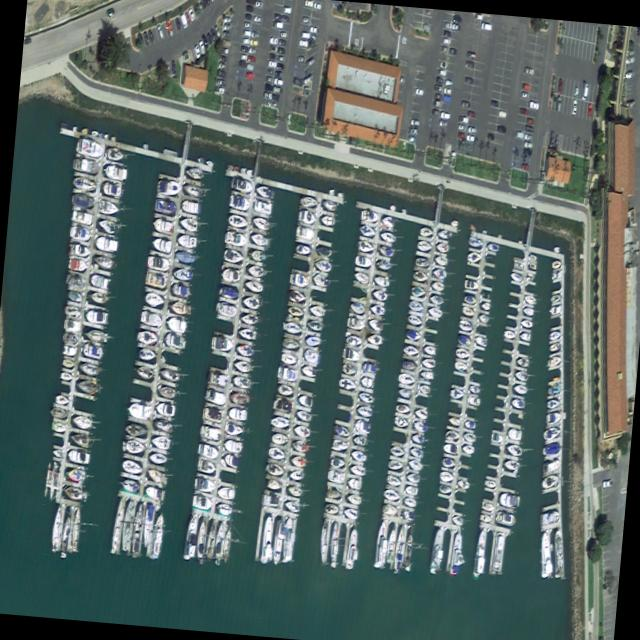ship: (372, 518, 390, 571), (109, 497, 124, 555), (428, 527, 445, 577), (42, 460, 62, 502), (130, 503, 144, 559), (472, 529, 488, 578), (119, 500, 134, 552), (182, 515, 197, 563), (149, 513, 164, 561), (259, 515, 272, 565), (392, 525, 405, 575), (75, 137, 103, 160), (281, 517, 294, 566), (344, 527, 358, 572), (450, 529, 463, 577), (490, 532, 505, 573), (271, 520, 284, 567), (402, 526, 415, 572), (50, 505, 62, 552), (72, 156, 100, 176), (70, 508, 82, 552), (60, 508, 72, 552), (317, 519, 328, 564), (328, 521, 340, 562), (195, 518, 207, 559), (141, 506, 153, 547), (72, 175, 97, 194), (213, 521, 224, 562), (205, 520, 216, 560), (205, 388, 227, 408), (197, 441, 219, 461), (230, 176, 253, 195), (71, 192, 94, 211), (95, 235, 118, 254), (97, 199, 119, 218), (147, 255, 170, 273), (104, 164, 127, 182), (199, 424, 222, 442), (139, 310, 162, 328), (156, 179, 180, 196), (221, 528, 232, 565), (553, 529, 561, 579), (541, 531, 549, 581), (228, 193, 249, 212), (145, 272, 167, 290), (224, 230, 246, 248), (193, 476, 215, 494), (121, 458, 143, 476), (128, 403, 150, 421), (71, 209, 93, 227), (69, 225, 91, 243), (385, 528, 396, 564), (154, 199, 177, 216), (146, 468, 169, 485), (125, 422, 148, 439), (539, 508, 559, 527), (216, 301, 237, 319), (202, 406, 223, 424), (69, 430, 90, 448), (85, 309, 108, 325), (144, 290, 164, 308), (104, 145, 124, 163), (221, 266, 241, 284), (164, 332, 185, 349), (124, 440, 145, 457), (137, 329, 158, 346), (82, 342, 103, 359), (78, 360, 99, 377), (75, 378, 96, 395), (152, 218, 174, 234), (211, 336, 233, 352), (228, 212, 248, 229), (192, 494, 212, 511), (93, 254, 113, 271), (169, 300, 190, 316), (223, 248, 244, 264), (68, 449, 89, 465), (498, 492, 519, 508), (495, 511, 516, 527), (273, 397, 292, 414), (255, 183, 274, 200), (197, 459, 216, 476), (208, 371, 228, 387), (119, 478, 139, 494), (72, 413, 92, 429), (260, 492, 280, 508), (174, 250, 195, 265), (69, 243, 90, 258), (65, 273, 86, 288), (158, 368, 180, 382), (97, 218, 115, 235), (295, 226, 314, 242), (289, 272, 308, 288), (217, 485, 236, 501), (102, 181, 121, 197), (219, 284, 238, 300), (151, 435, 170, 451), (138, 347, 157, 363), (91, 273, 110, 289), (63, 303, 82, 319), (541, 441, 560, 457), (277, 367, 297, 382), (152, 238, 172, 253), (182, 183, 202, 198), (223, 422, 243, 437), (237, 327, 257, 342), (166, 317, 186, 332), (67, 258, 87, 273), (85, 328, 105, 343), (145, 484, 162, 501), (252, 215, 270, 231), (64, 486, 82, 502), (542, 472, 558, 490), (542, 458, 560, 474), (543, 425, 561, 441), (228, 406, 247, 421), (270, 416, 290, 430), (172, 267, 192, 281), (177, 234, 197, 248), (229, 391, 249, 405), (65, 467, 85, 481), (171, 283, 188, 299), (289, 289, 306, 305), (357, 239, 374, 255), (353, 418, 370, 434), (270, 431, 288, 446), (303, 349, 321, 364), (267, 447, 285, 462), (266, 462, 284, 477), (185, 166, 203, 181), (297, 209, 315, 224), (314, 258, 332, 273), (361, 209, 379, 224), (327, 470, 345, 485), (338, 377, 356, 392), (63, 318, 81, 333), (179, 217, 198, 231), (346, 317, 365, 331), (223, 439, 242, 453), (232, 375, 251, 389), (244, 279, 263, 293), (148, 451, 167, 465), (156, 402, 175, 416), (277, 382, 294, 397), (285, 321, 302, 336), (379, 229, 396, 244), (215, 502, 232, 517), (242, 295, 259, 310), (158, 384, 175, 399), (503, 458, 520, 473), (181, 199, 199, 213), (354, 255, 372, 269), (233, 359, 251, 373), (250, 231, 268, 245), (281, 338, 300, 351), (397, 373, 416, 386), (294, 242, 310, 257), (378, 243, 394, 258), (346, 333, 362, 348), (381, 502, 397, 517), (308, 304, 325, 318), (358, 225, 375, 239), (402, 343, 419, 357), (350, 449, 367, 463), (240, 312, 257, 326), (154, 418, 171, 432), (246, 264, 264, 277), (90, 291, 108, 304), (49, 407, 67, 420), (298, 393, 313, 408), (354, 270, 369, 285), (346, 491, 361, 506), (281, 352, 297, 366), (266, 478, 282, 492), (312, 273, 328, 287), (375, 258, 391, 272), (408, 299, 424, 313), (329, 455, 345, 469), (332, 439, 348, 453), (343, 348, 359, 362), (367, 317, 383, 331), (349, 301, 365, 315), (224, 452, 238, 468), (62, 332, 78, 346), (385, 473, 401, 487), (293, 425, 310, 438), (292, 439, 309, 452), (290, 455, 307, 468), (287, 305, 304, 318), (300, 195, 317, 208), (400, 359, 417, 372), (236, 344, 253, 357), (136, 366, 153, 379), (343, 507, 358, 521), (324, 502, 339, 516), (413, 270, 428, 284), (326, 486, 341, 500), (467, 250, 482, 264), (546, 411, 561, 425), (320, 214, 336, 227), (316, 245, 332, 258), (410, 286, 426, 299), (406, 314, 422, 327), (405, 329, 421, 342), (333, 424, 349, 437), (358, 391, 374, 404), (362, 361, 378, 374), (366, 333, 382, 346), (369, 303, 385, 316), (67, 290, 83, 303), (455, 347, 471, 360), (389, 445, 405, 458), (387, 459, 403, 472), (506, 444, 522, 457), (295, 410, 312, 422), (284, 500, 301, 512), (428, 294, 445, 306), (383, 489, 400, 501), (342, 363, 356, 377), (51, 446, 65, 460), (547, 354, 561, 368), (287, 484, 302, 497), (432, 267, 447, 280), (417, 240, 432, 253), (347, 477, 362, 490), (372, 289, 387, 302), (52, 421, 67, 434), (445, 429, 460, 442), (394, 416, 409, 429), (412, 420, 427, 433), (407, 458, 422, 471), (439, 470, 454, 483), (507, 428, 522, 441), (356, 405, 372, 417), (374, 275, 390, 287), (250, 249, 266, 261), (322, 199, 336, 212), (435, 241, 449, 254), (547, 384, 561, 397), (301, 365, 316, 377), (307, 319, 322, 331), (430, 280, 445, 292), (415, 256, 430, 268), (360, 376, 375, 388), (54, 394, 69, 406), (449, 388, 464, 400), (453, 361, 468, 373), (464, 279, 479, 291), (443, 442, 458, 454), (395, 402, 410, 414), (381, 214, 394, 227), (442, 456, 455, 469), (419, 226, 433, 238), (398, 387, 412, 399), (473, 335, 487, 347), (458, 320, 472, 332), (410, 432, 424, 444), (401, 509, 415, 521), (479, 513, 493, 525), (305, 335, 320, 346), (288, 470, 303, 481), (427, 306, 442, 317), (421, 357, 436, 368), (468, 237, 483, 248), (409, 447, 424, 458), (352, 435, 368, 445), (434, 254, 447, 266), (63, 345, 76, 357), (414, 407, 427, 419), (523, 293, 536, 305), (547, 397, 559, 410), (549, 341, 561, 354), (423, 344, 437, 355), (420, 370, 434, 381), (461, 307, 475, 318), (463, 294, 477, 305), (406, 472, 420, 483), (403, 497, 417, 508), (514, 370, 528, 381), (513, 383, 527, 394), (511, 398, 525, 409), (520, 318, 532, 330), (451, 514, 463, 526), (437, 229, 450, 240), (61, 358, 74, 369), (457, 335, 470, 346), (486, 242, 499, 253), (516, 356, 529, 367), (456, 479, 469, 490), (438, 484, 451, 495), (490, 433, 503, 444), (481, 501, 494, 512), (549, 329, 560, 342), (350, 465, 364, 475), (59, 372, 73, 382), (462, 432, 476, 442), (418, 383, 430, 394), (448, 416, 460, 427), (468, 395, 480, 406), (478, 312, 489, 324), (513, 259, 524, 271), (510, 271, 522, 282), (522, 306, 534, 317), (550, 292, 561, 304), (461, 444, 474, 454), (503, 330, 516, 340), (483, 479, 496, 489), (405, 485, 419, 494), (468, 384, 480, 394), (551, 258, 561, 270), (464, 420, 475, 430), (519, 332, 531, 341), (205, 158, 214, 168), (408, 126, 418, 135), (433, 91, 442, 101), (442, 93, 451, 103), (480, 301, 490, 310), (435, 75, 444, 84), (464, 76, 473, 85), (409, 119, 419, 127), (397, 76, 405, 85), (415, 87, 423, 96), (407, 135, 416, 143), (450, 218, 458, 227), (433, 100, 441, 108), (529, 254, 538, 261), (81, 127, 88, 135), (91, 130, 98, 138), (529, 262, 536, 270), (328, 188, 335, 195), (246, 168, 252, 176), (227, 164, 233, 171), (97, 132, 103, 139), (240, 167, 246, 173), (336, 192, 343, 197), (554, 246, 559, 253), (234, 166, 239, 172)
small-vehicle: (580, 82, 589, 101), (165, 19, 173, 36), (179, 12, 187, 29), (439, 108, 450, 120), (480, 21, 492, 32), (625, 97, 635, 110), (193, 44, 201, 60), (528, 100, 539, 111), (439, 43, 449, 55), (303, 72, 313, 84), (467, 49, 477, 61), (147, 28, 155, 43), (156, 24, 164, 39), (209, 26, 216, 43), (142, 30, 149, 47), (188, 6, 195, 22), (198, 39, 205, 55), (214, 22, 221, 38), (305, 56, 315, 67), (436, 66, 446, 77), (272, 76, 283, 86), (265, 66, 275, 77), (602, 479, 613, 489), (220, 38, 231, 48), (242, 27, 251, 39), (262, 89, 271, 101), (495, 124, 507, 133), (557, 77, 563, 94), (202, 33, 208, 50), (444, 77, 454, 87), (461, 99, 471, 109), (523, 67, 534, 76), (523, 138, 532, 149), (486, 131, 495, 142), (218, 60, 227, 71), (571, 99, 577, 115), (206, 32, 212, 48), (300, 30, 310, 39), (467, 109, 476, 119), (458, 114, 468, 123), (466, 134, 475, 144), (281, 14, 290, 24), (452, 14, 461, 24), (555, 96, 561, 111), (625, 69, 634, 79), (175, 16, 181, 31), (253, 14, 262, 24), (297, 39, 308, 47), (272, 84, 280, 95), (244, 11, 252, 22), (216, 75, 224, 86), (185, 10, 190, 27), (433, 84, 442, 93), (443, 87, 452, 96), (439, 119, 448, 128), (442, 29, 451, 38), (466, 59, 475, 68), (497, 109, 506, 118), (240, 44, 249, 53), (241, 36, 250, 45), (245, 3, 254, 12), (267, 52, 276, 61), (515, 129, 524, 138), (293, 77, 302, 86), (218, 54, 227, 63), (249, 39, 258, 48), (302, 15, 310, 25), (309, 25, 319, 33), (304, 0, 314, 8), (243, 19, 251, 29), (283, 5, 291, 15), (278, 38, 286, 48), (269, 43, 277, 53), (276, 54, 284, 64), (247, 53, 255, 63), (217, 68, 225, 78), (280, 29, 287, 40), (587, 103, 592, 118), (458, 123, 467, 131), (467, 125, 475, 134), (490, 98, 498, 107), (313, 1, 321, 10), (273, 11, 281, 20), (274, 21, 283, 29), (276, 62, 284, 71), (274, 70, 282, 79), (264, 75, 273, 83), (452, 22, 460, 31), (457, 131, 466, 139), (439, 59, 447, 68), (526, 116, 534, 125), (523, 133, 532, 141), (521, 162, 529, 171), (106, 8, 114, 17), (220, 46, 228, 55), (625, 56, 634, 64), (246, 71, 254, 80), (238, 59, 247, 67), (223, 15, 232, 23), (254, 0, 263, 8), (518, 108, 528, 115), (249, 46, 256, 56), (200, 0, 206, 11), (270, 36, 278, 44), (277, 47, 285, 55), (264, 83, 272, 91), (522, 82, 530, 90), (449, 47, 457, 55), (521, 91, 529, 99), (251, 30, 259, 38), (445, 20, 452, 29), (267, 61, 276, 68), (240, 53, 248, 60), (297, 55, 304, 63), (24, 37, 31, 45), (246, 64, 254, 71), (223, 23, 231, 30), (222, 31, 230, 37), (205, 0, 210, 7)
